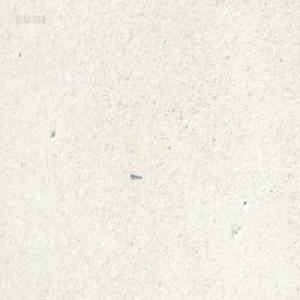Nail: (129, 170, 142, 178)
